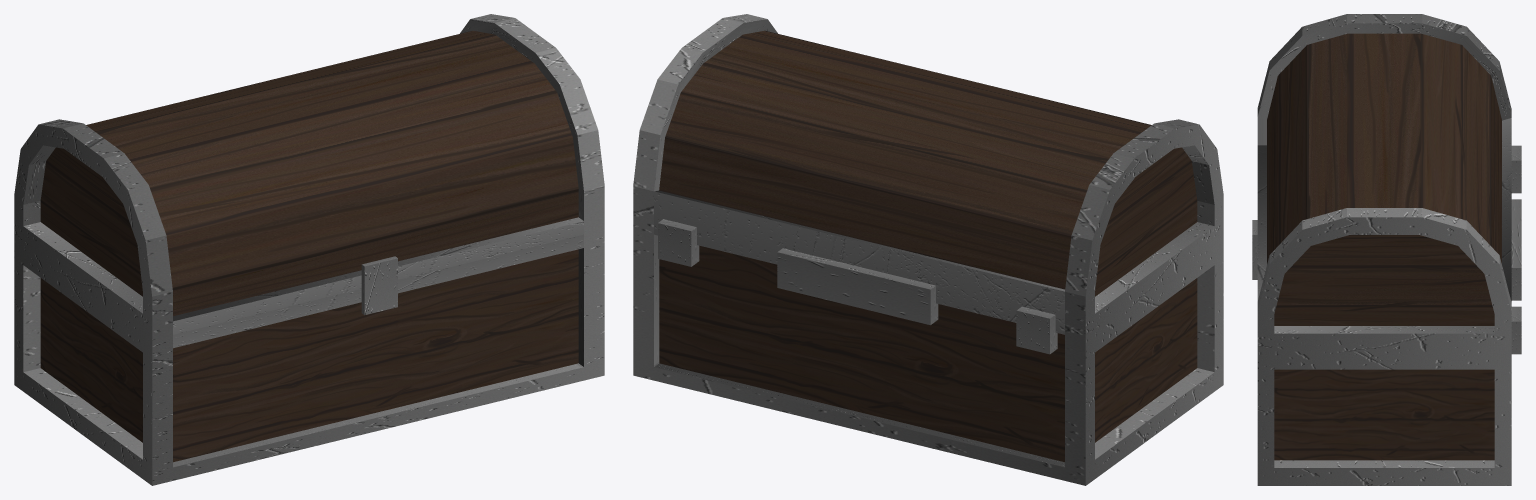
File: chest.fbx
3 renders of one model, left to right at view 1: azimuth 30°, elevation 25°; view 2: azimuth 150°, elevation 25°; view 3: azimuth 270°, elevation 25°, orthographic. The views are drawn at different scales.
Parts seen in each view (by area): view 1: shared_chest; view 2: shared_chest; view 3: shared_chest.
Part boxes in pixels (left/top/right/bottom): shared_chest: left=14, top=14, right=604, bottom=485; shared_chest: left=633, top=14, right=1223, bottom=485; shared_chest: left=1252, top=14, right=1521, bottom=485.
Bounding box in the file's own units: 163 × 100 × 91.17.
